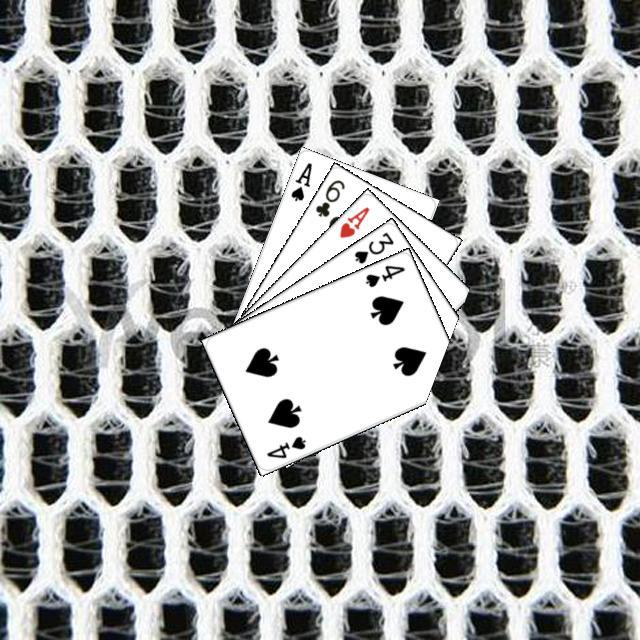3s: (349, 227, 395, 266)
4s: (360, 260, 407, 289), (261, 431, 308, 460)
6c: (310, 175, 347, 219)
Ah: (334, 201, 371, 240)
As: (286, 157, 314, 203)
